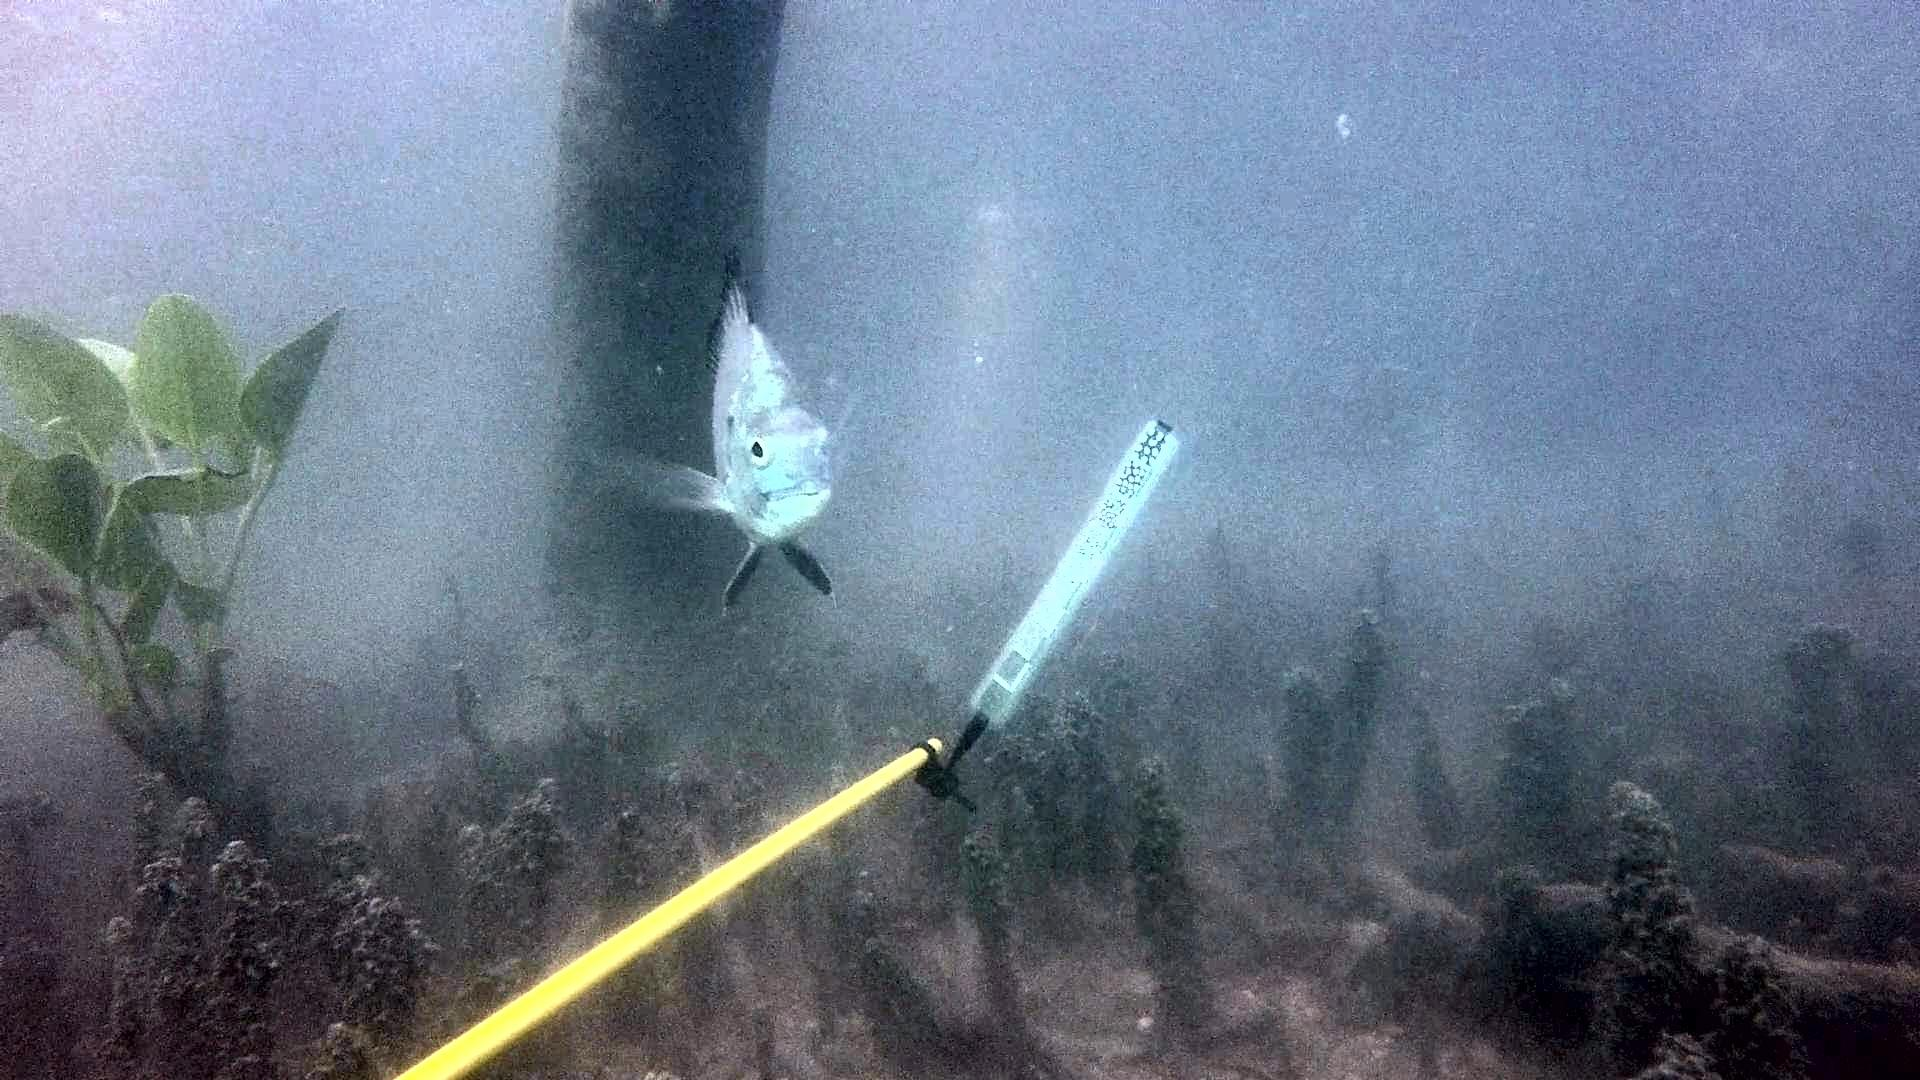acanthopagrus palmaris: (576, 233, 876, 621)
